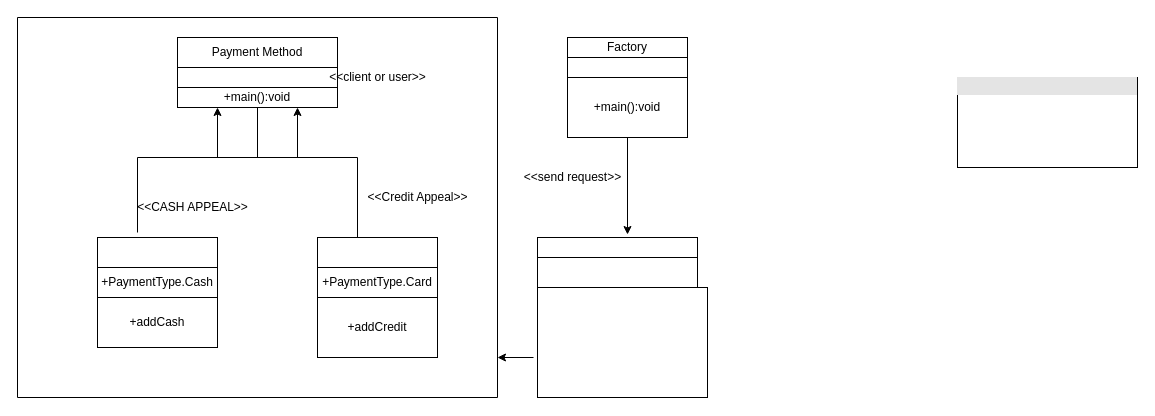
Image size: 1155x416. Some labels were removed from this diagram. The shapes that lost their labels are listed below. From the top down, each one's centre as x and y in pixels, then its label:
At point (157, 252): "Cash".
At point (377, 252): "Credit".
At point (617, 247): "FactoryPayment".
At point (622, 342): "+getPayment():Payment +getCash():Cash getCard():Card".
